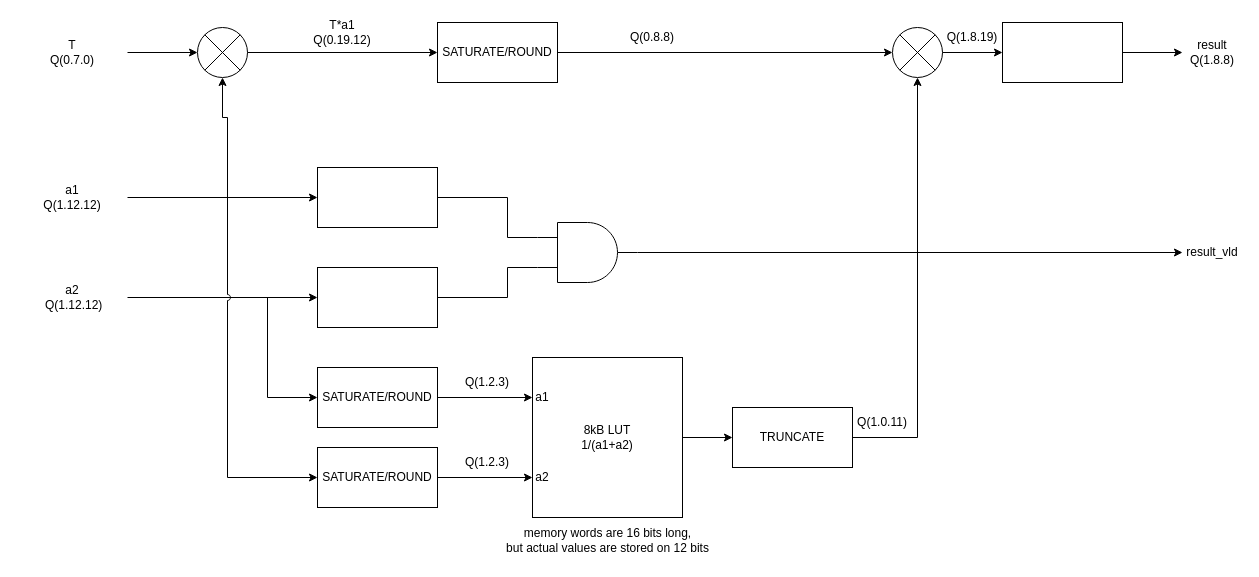
This 1259x577 diagram has some shape labels left out. The shapes that lost their labels are listed below. From the top down, each one's centre as x and y in pixels, then its label:
At (x=1062, y=52): "ROUND".
At (x=377, y=197): "a1 < 0".
At (x=377, y=297): "a2 > 0".
